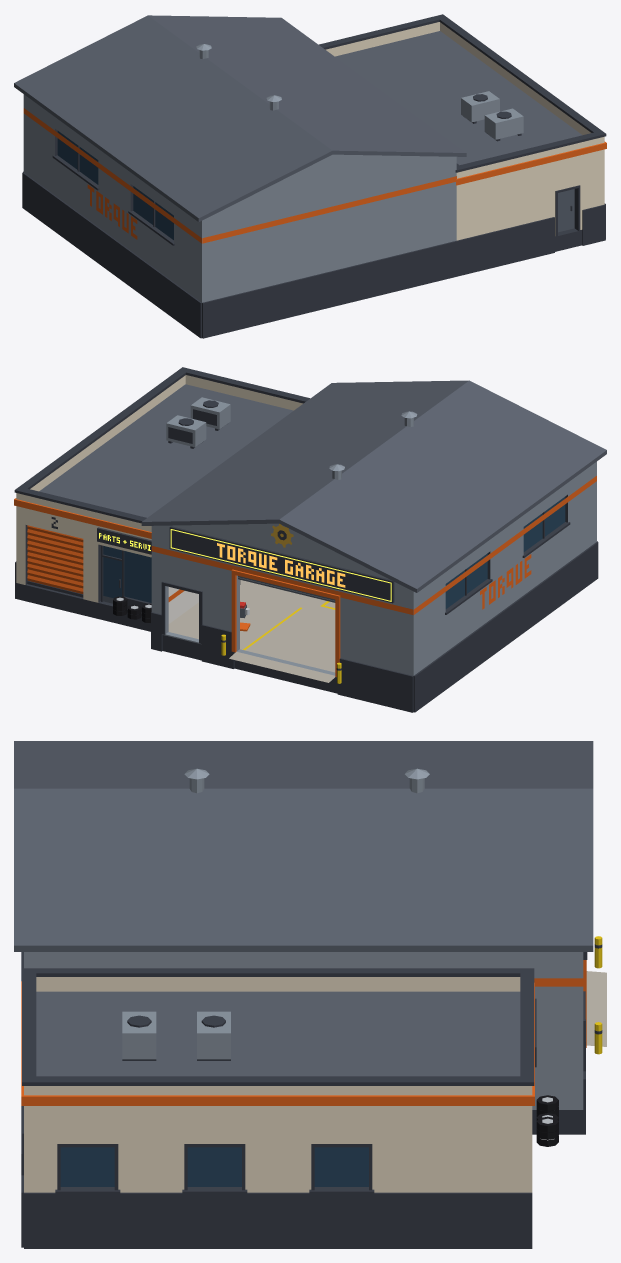
File: mod_garage.glb
The picture shows the model from 3 angles, top to bottom: view 1: azimuth 30°, elevation 25°; view 2: azimuth 150°, elevation 25°; view 3: azimuth 270°, elevation 25°; orthographic projection. The views are drawn at different scales.
Parts seen in each view (by area): view 1: Building, Building_Detail, Building_Glass; view 2: Building, Building_Detail, Building_Glass, Building_Neon; view 3: Building, Building_Glass, Building_Detail.
Part boxes in pixels (x1=…): Building: x1=14, y1=14, x2=606, y2=338; Building_Detail: x1=23, y1=44, x2=572, y2=243; Building_Glass: x1=57, y1=131, x2=173, y2=239; Building: x1=14, y1=367, x2=606, y2=712; Building_Detail: x1=51, y1=397, x2=596, y2=649; Building_Glass: x1=103, y1=497, x2=565, y2=608; Building_Neon: x1=99, y1=529, x2=391, y2=601; Building: x1=14, y1=741, x2=606, y2=1248; Building_Glass: x1=60, y1=1147, x2=368, y2=1186; Building_Detail: x1=122, y1=768, x2=587, y2=1067.
Size of the model in its own units: 21.99 by 8.75 by 17.5.
